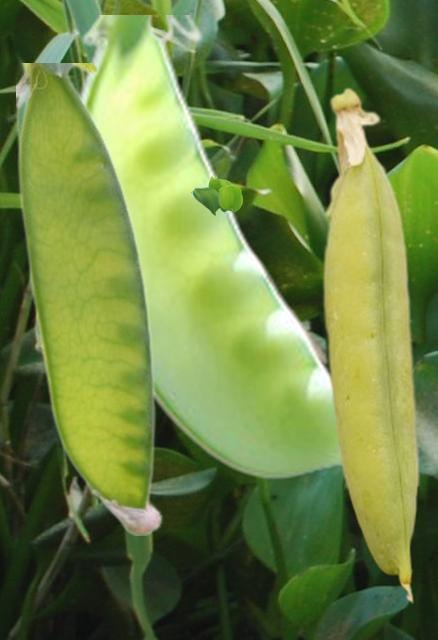pea: (77, 15, 347, 494), (16, 63, 162, 534), (322, 86, 420, 602)
